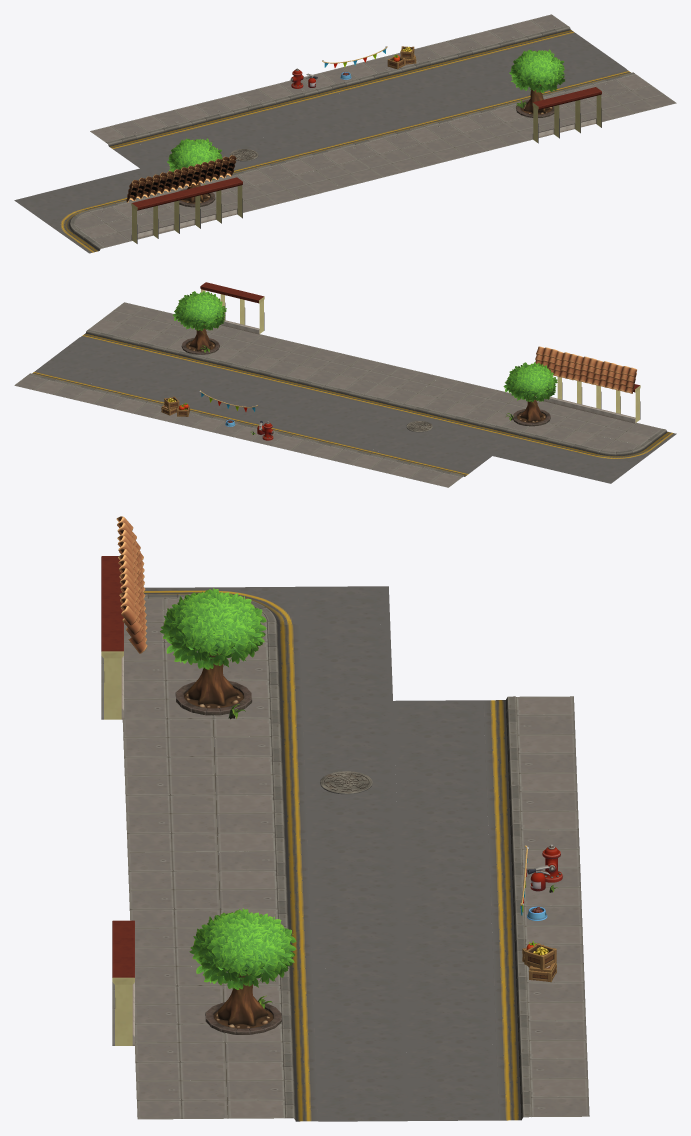
The model's file is TitleLevel.fbx.
3 renders of one model, top to bottom at view 1: azimuth 30°, elevation 25°; view 2: azimuth 150°, elevation 25°; view 3: azimuth 270°, elevation 25°, orthographic. The views are drawn at different scales.
Visible parts, largest first — view 1: Menu Background Baked Mesh-mesh0_5, Menu Background Baked Mesh-mesh0_0, Menu Background Baked Mesh-mesh0_6, Menu Background Baked Mesh-mesh0_4, m_city_tree_01_0.001, m_city_tree_01_0, m_city_wall_straight_01_0.005, m_city_wall_straight_01_0.004, m_city_tree_01_1.001, Menu Background Baked Mesh-mesh0_7, m_city_wall_straight_01_0.007, m_city_wall_straight_01_0.001 (+5 smaller); view 2: Menu Background Baked Mesh-mesh0_5, Menu Background Baked Mesh-mesh0_0, Menu Background Baked Mesh-mesh0_6, Menu Background Baked Mesh-mesh0_4, m_city_tree_01_0.001, m_city_tree_01_0, m_city_tree_01_1, m_city_tree_01_1.001, Menu Background Baked Mesh-mesh0_7, m_city_wall_straight_01_0.007, m_city_wall_straight_01_0.006, m_city_wall_straight_01_0; view 3: Menu Background Baked Mesh-mesh0_0, Menu Background Baked Mesh-mesh0_5, Menu Background Baked Mesh-mesh0_6, m_city_tree_01_0.001, m_city_tree_01_0, Menu Background Baked Mesh-mesh0_4, m_city_tree_01_1, m_city_tree_01_1.001, m_city_wall_straight_01_0.004, m_city_wall_straight_01_0.005, Menu Background Baked Mesh-mesh0_7, Menu Background Baked Mesh-mesh0_1.
Part boxes in pixels (box(x1,y1,x2,y2)): Menu Background Baked Mesh-mesh0_5: box(64, 14, 651, 253); Menu Background Baked Mesh-mesh0_0: box(14, 34, 626, 217); Menu Background Baked Mesh-mesh0_6: box(106, 85, 676, 240); Menu Background Baked Mesh-mesh0_4: box(126, 155, 236, 202); m_city_tree_01_0.001: box(509, 49, 565, 93); m_city_tree_01_0: box(167, 138, 222, 179); m_city_wall_straight_01_0.005: box(574, 87, 601, 133); m_city_wall_straight_01_0.004: box(215, 177, 242, 223); m_city_tree_01_1.001: box(516, 62, 554, 117); Menu Background Baked Mesh-mesh0_7: box(39, 207, 85, 235); m_city_wall_straight_01_0.007: box(532, 97, 559, 143); m_city_wall_straight_01_0.001: box(152, 193, 179, 238); Menu Background Baked Mesh-mesh0_5: box(14, 319, 676, 487); Menu Background Baked Mesh-mesh0_0: box(36, 337, 632, 483); Menu Background Baked Mesh-mesh0_6: box(103, 302, 636, 439); Menu Background Baked Mesh-mesh0_4: box(535, 346, 636, 393); m_city_tree_01_0.001: box(172, 291, 226, 330); m_city_tree_01_0: box(503, 362, 557, 402); m_city_tree_01_1: box(512, 372, 550, 426); m_city_tree_01_1.001: box(181, 301, 219, 354); Menu Background Baked Mesh-mesh0_7: box(594, 448, 654, 466); m_city_wall_straight_01_0.007: box(239, 291, 264, 334); m_city_wall_straight_01_0.006: box(220, 287, 245, 329); m_city_wall_straight_01_0: box(615, 384, 640, 423); Menu Background Baked Mesh-mesh0_0: box(298, 586, 498, 1121); Menu Background Baked Mesh-mesh0_5: box(143, 587, 589, 1121); Menu Background Baked Mesh-mesh0_6: box(122, 622, 227, 1119); m_city_tree_01_0.001: box(189, 908, 296, 989); m_city_tree_01_0: box(160, 588, 266, 669); Menu Background Baked Mesh-mesh0_4: box(116, 516, 147, 653); m_city_tree_01_1: box(175, 610, 252, 715); m_city_tree_01_1.001: box(205, 933, 281, 1034); m_city_wall_straight_01_0.004: box(101, 632, 123, 719); m_city_wall_straight_01_0.005: box(112, 958, 134, 1045); Menu Background Baked Mesh-mesh0_7: box(208, 586, 299, 624); Menu Background Baked Mesh-mesh0_1: box(320, 771, 372, 794).
Bounding box in the file's own units: 33.68 × 3.48 × 12.96.
